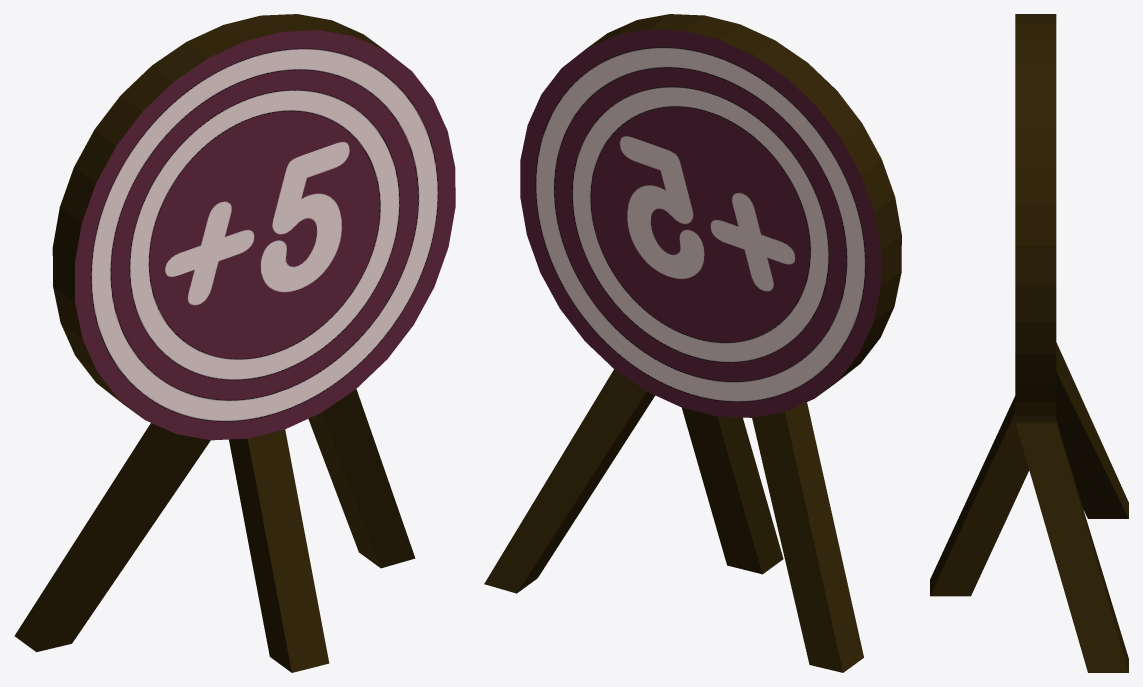
The model's file is renk1.fbx.
3 renders of one model, left to right at view 1: azimuth 30°, elevation 25°; view 2: azimuth 150°, elevation 25°; view 3: azimuth 270°, elevation 25°, orthographic. The views are drawn at different scales.
Parts seen in each view (by area): view 1: Cylinder; view 2: Cylinder; view 3: Cylinder.
Boxes of the visible parts, x1=… form: Cylinder: x1=14, y1=14, x2=455, y2=672; Cylinder: x1=484, y1=14, x2=901, y2=672; Cylinder: x1=930, y1=14, x2=1128, y2=672.
Size of the model in its own units: 199 by 299 by 97.2.
2 materials, 1 textured.
